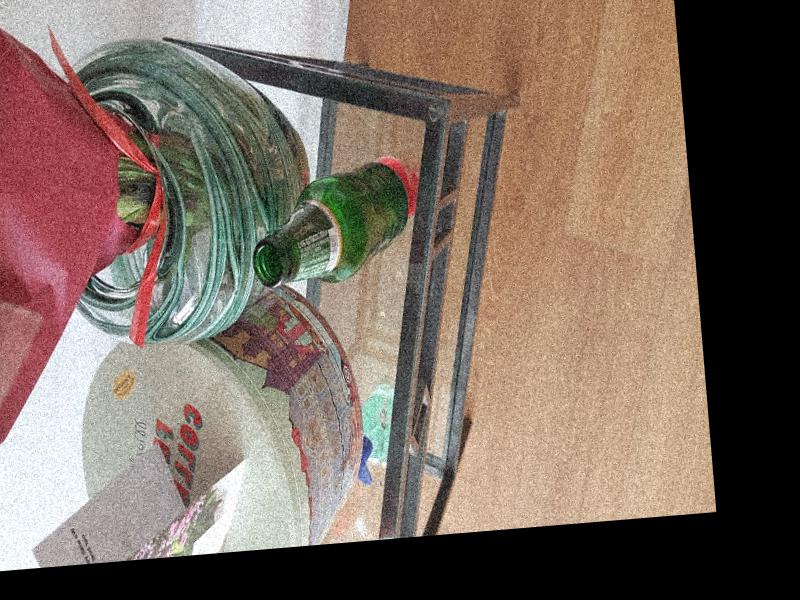Beer: (246, 158, 413, 290)
